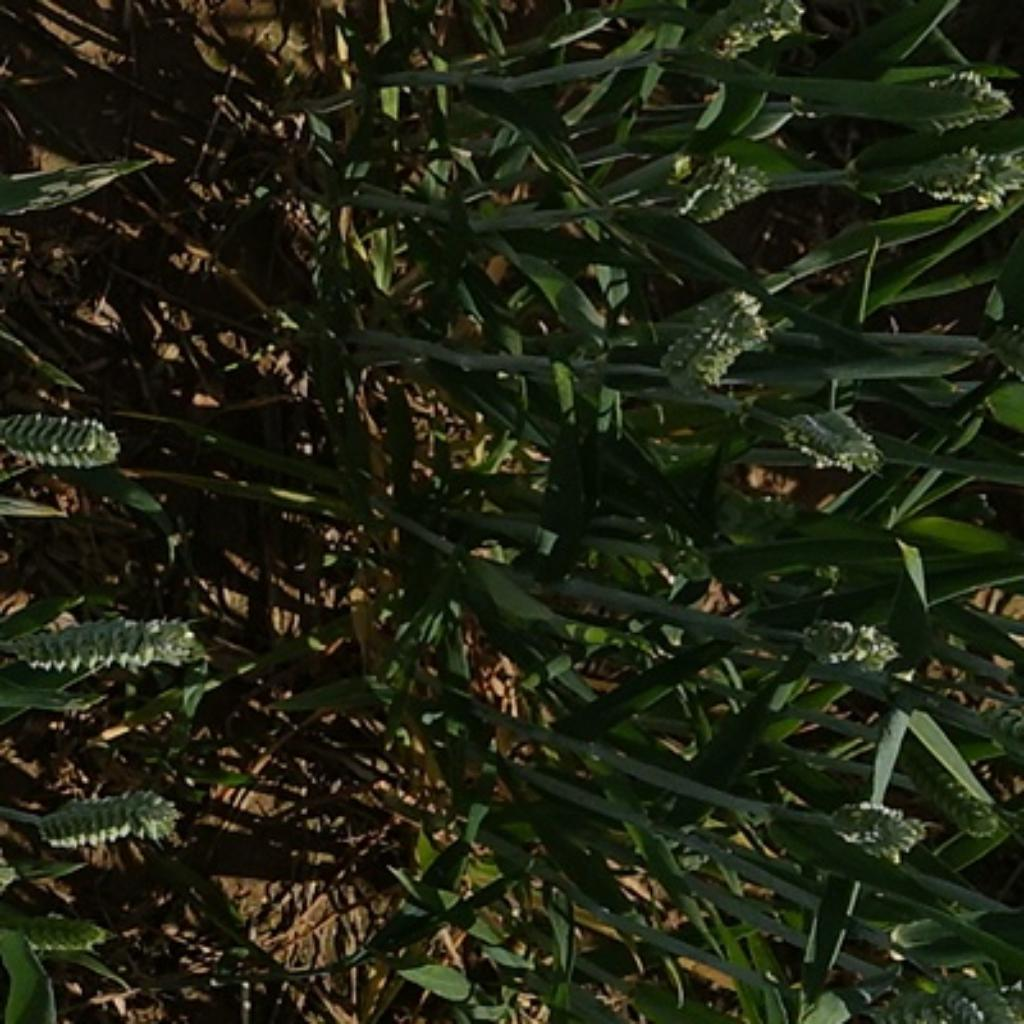0-0: (0, 596, 207, 683), (640, 271, 778, 399), (28, 775, 184, 852), (0, 405, 125, 485), (678, 0, 819, 69), (775, 389, 885, 473), (788, 604, 908, 678), (670, 148, 778, 227), (911, 145, 1024, 212), (906, 750, 998, 832), (819, 788, 926, 857), (916, 58, 1013, 122), (21, 906, 117, 961), (939, 966, 1020, 1024), (879, 976, 972, 1024), (976, 692, 1024, 770)
